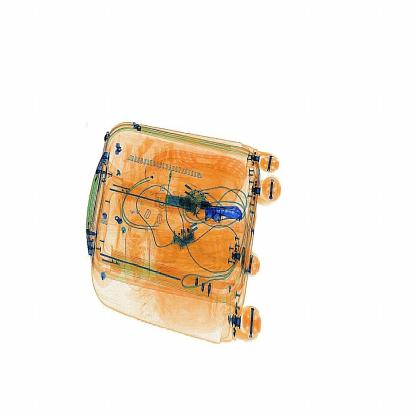knife: (204, 204, 246, 226)
